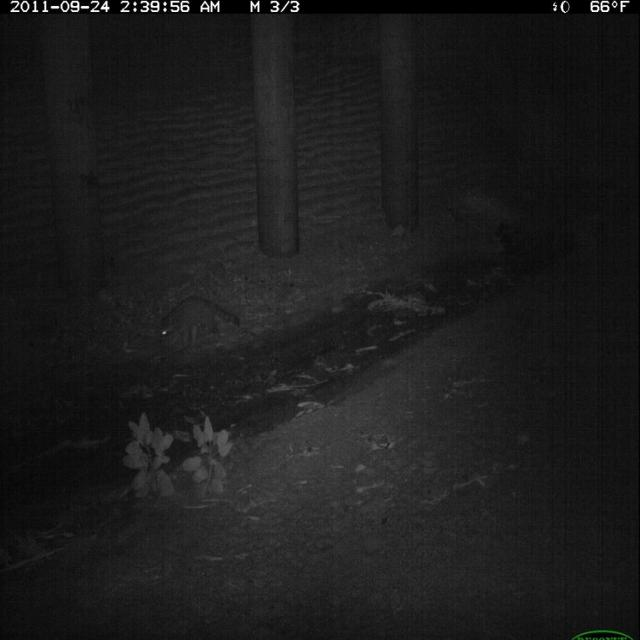raccoon: (154, 290, 244, 359)
